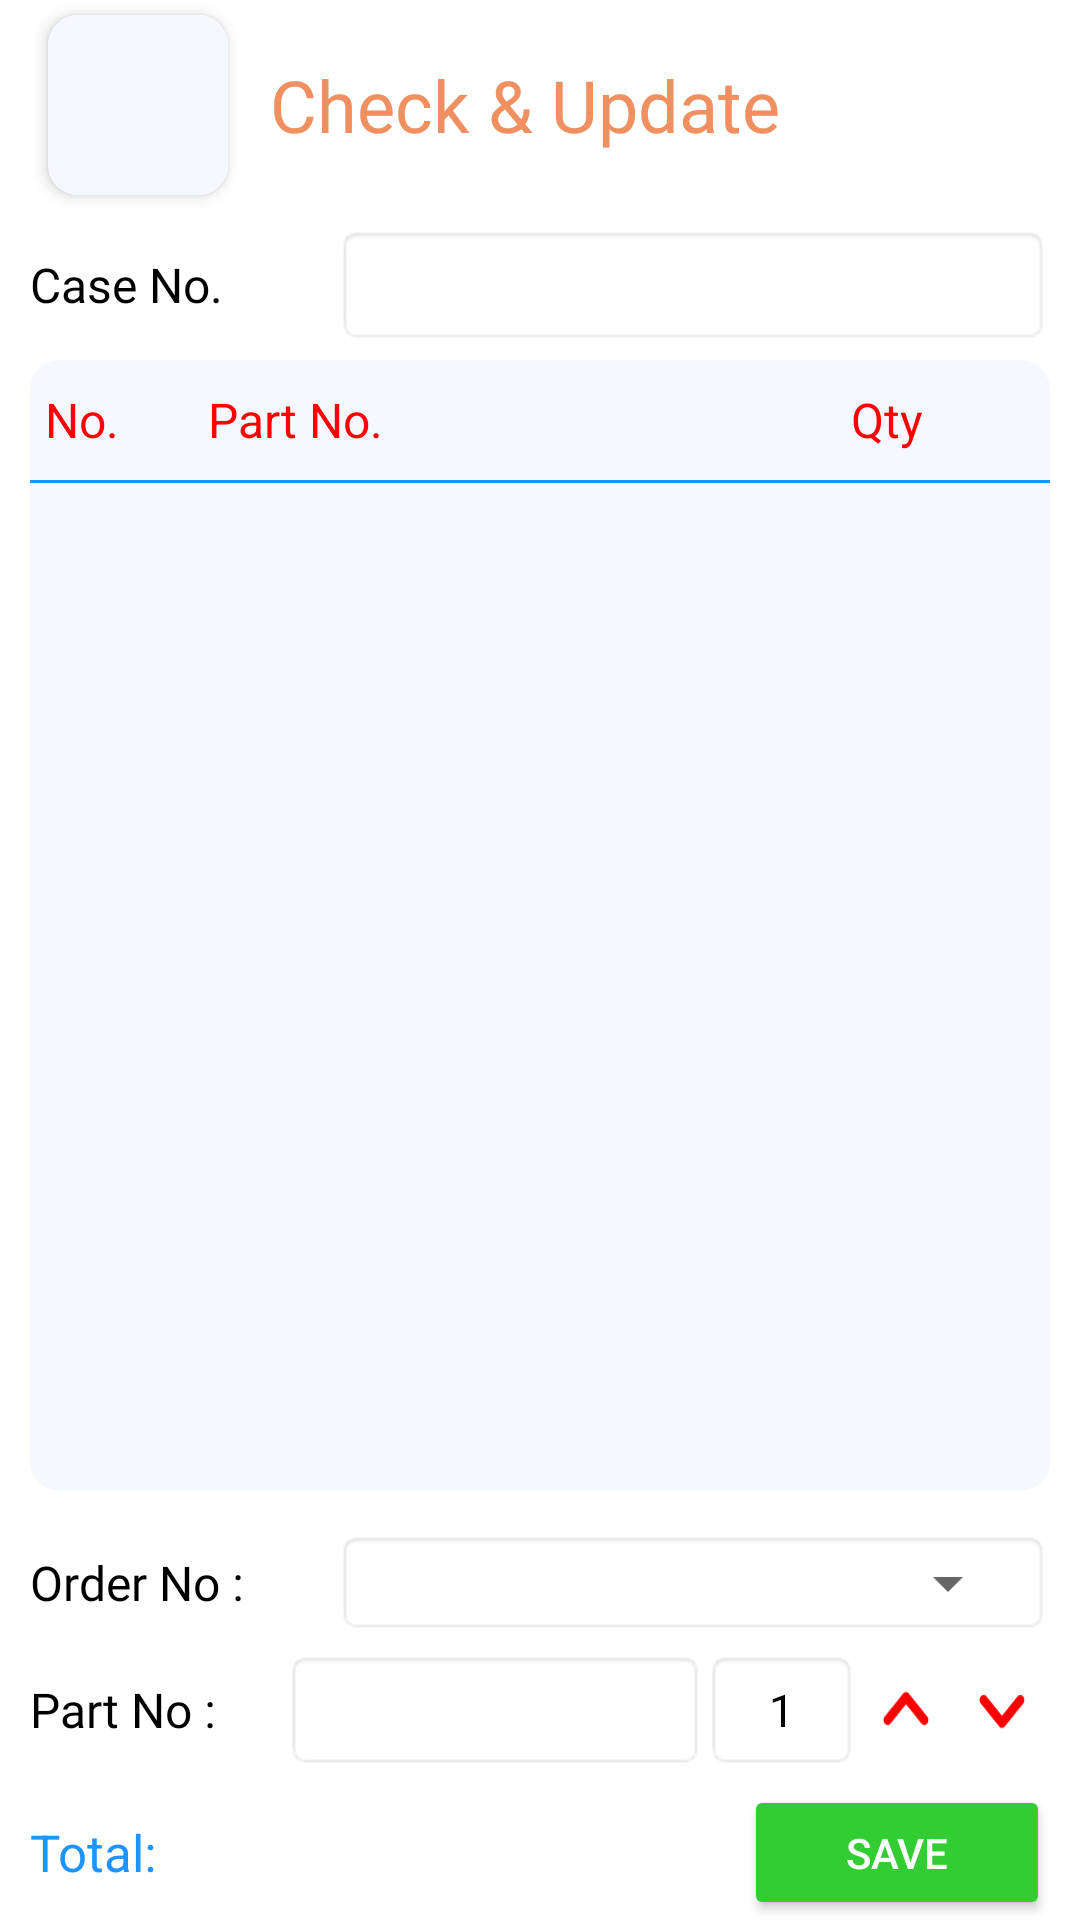

Named icons in this screenshot (1080×1920) and their centers, [x,y]:
arrow down: [1002,1711]
arrow up: [906,1708]
